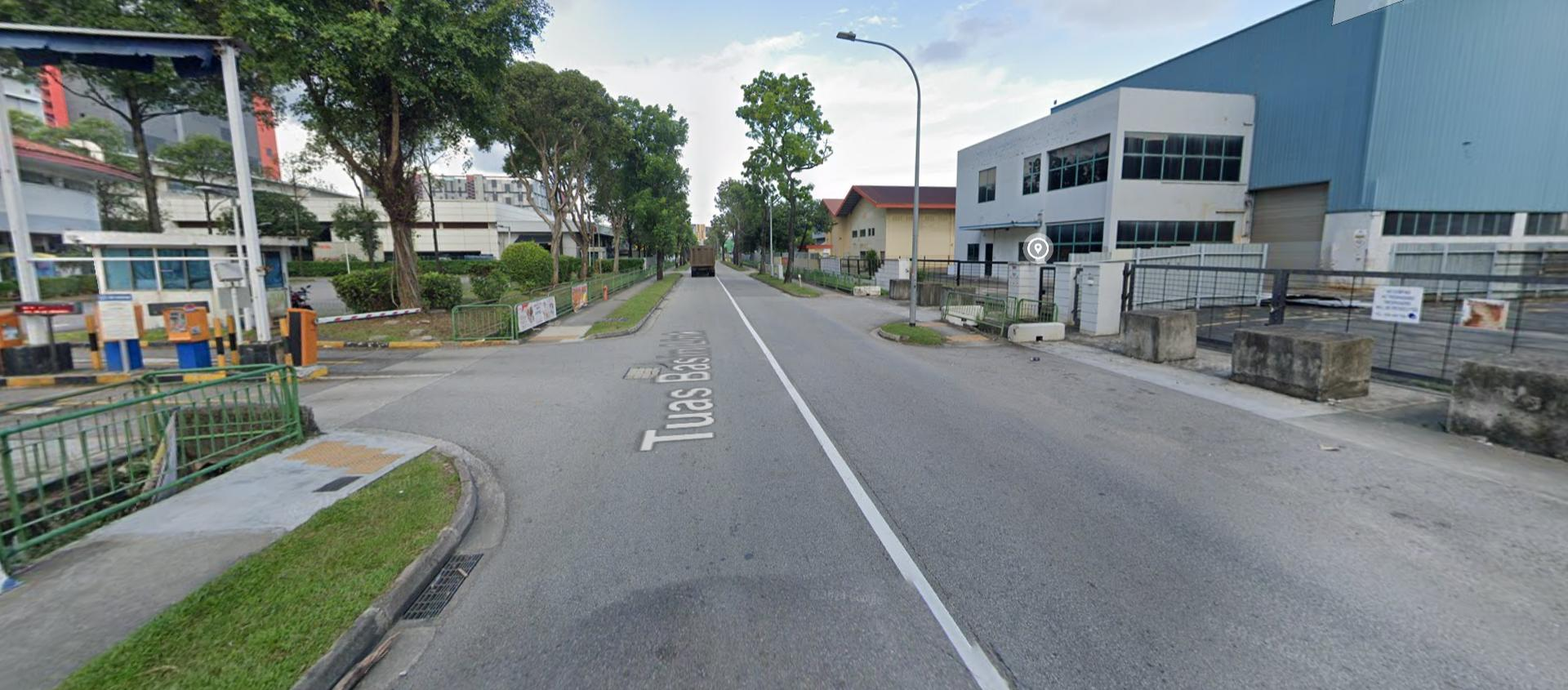defect: (401, 553, 487, 620)
